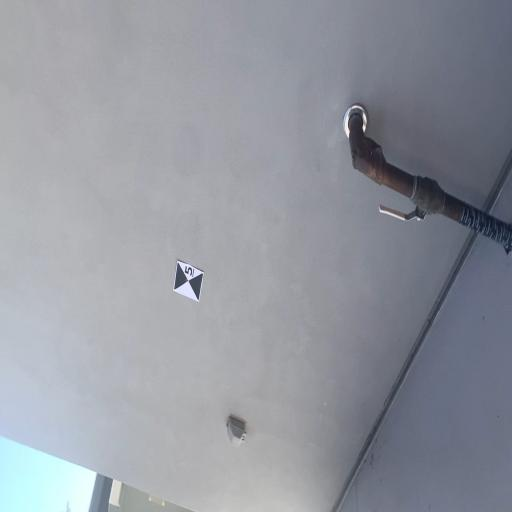target5: (173, 259, 203, 303)
